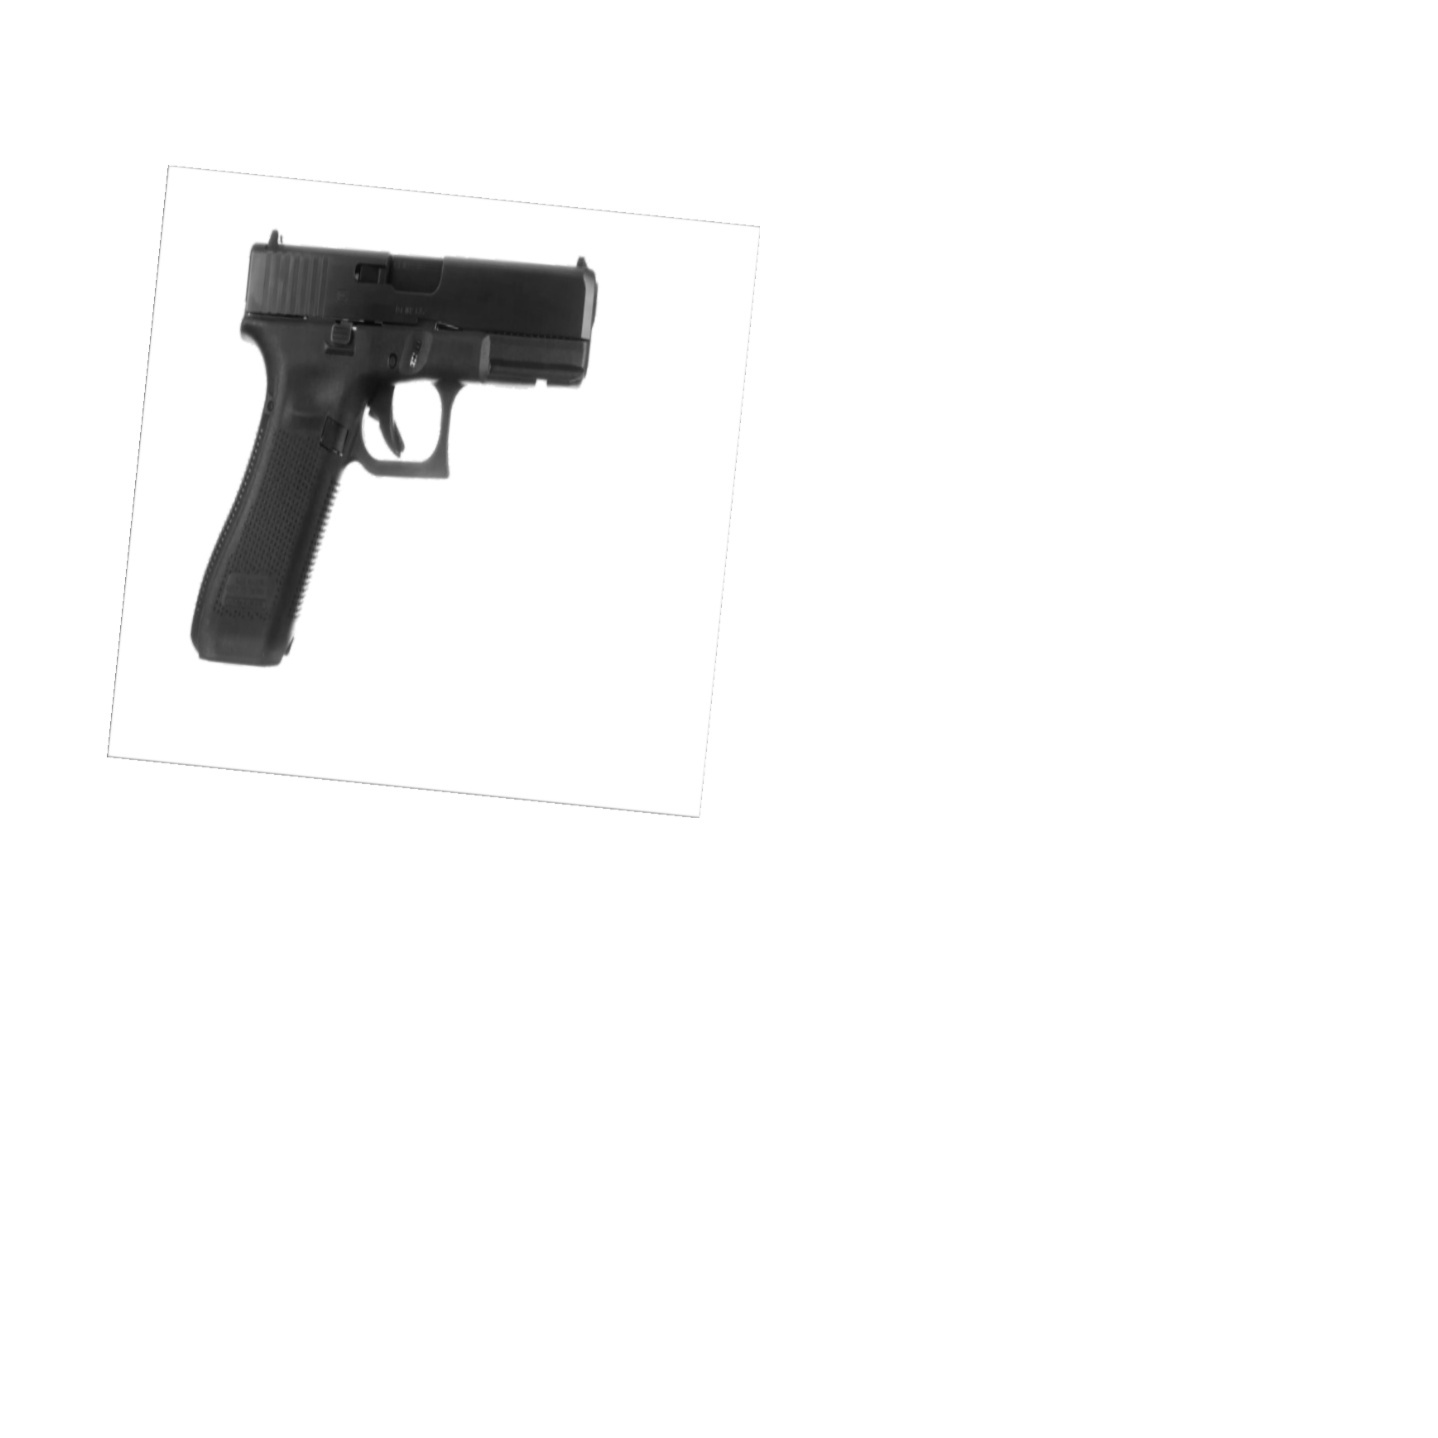gun: (188, 229, 603, 666)
